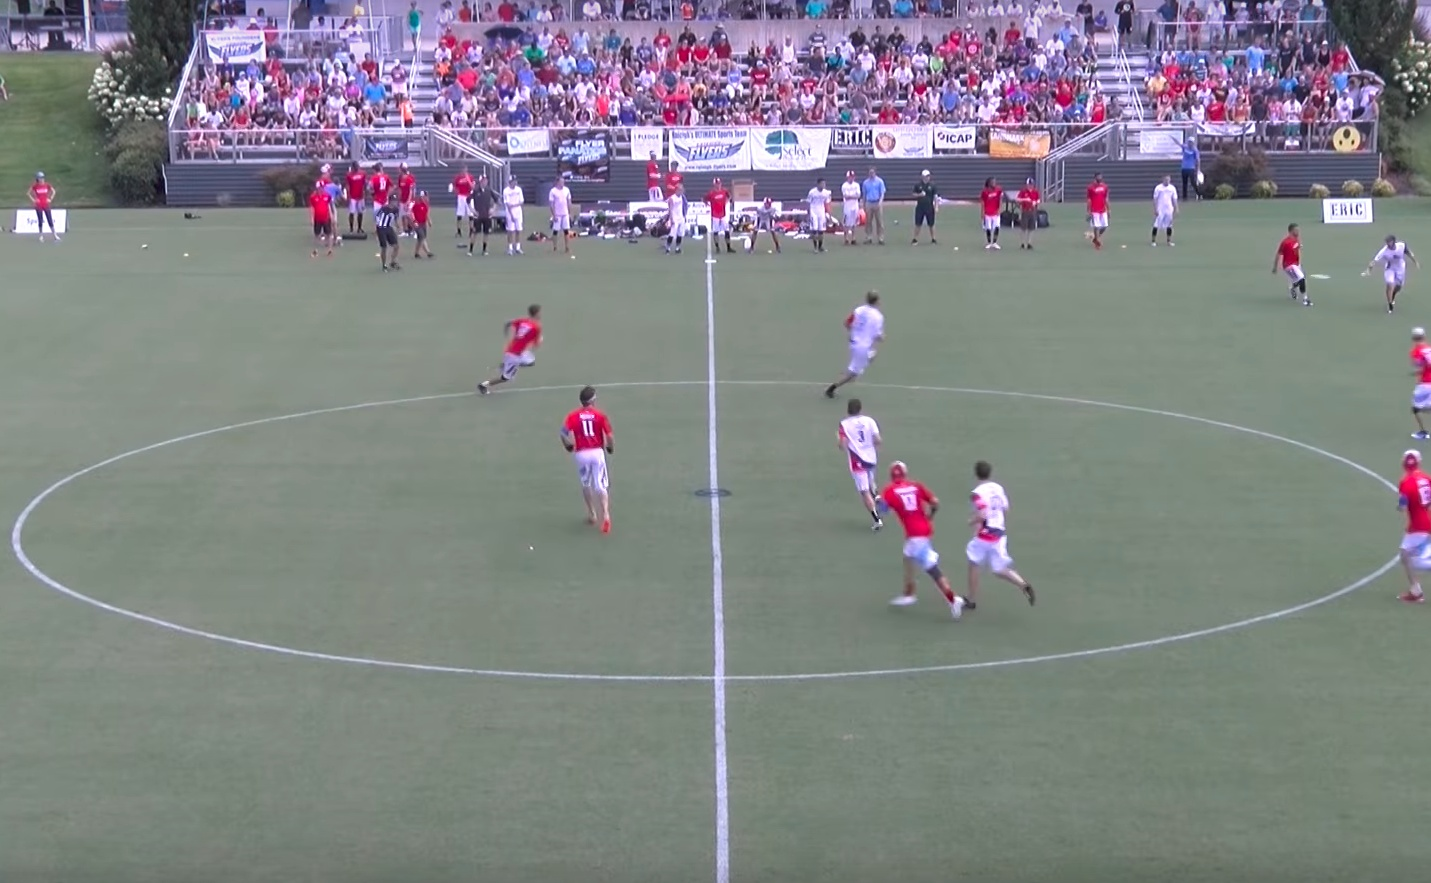frisbee: (1311, 274, 1331, 280)
